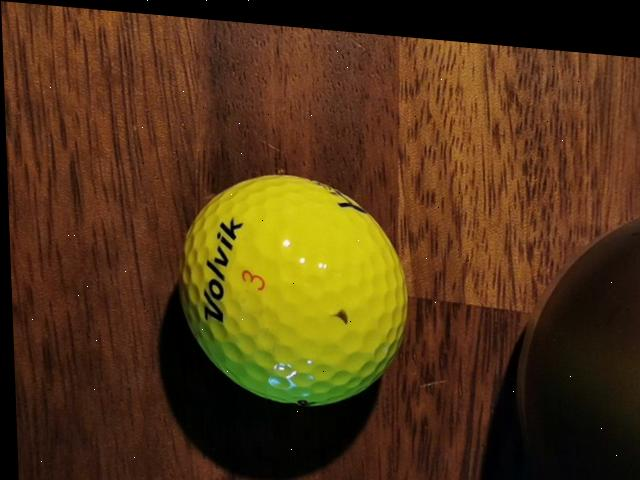Ball: (171, 161, 408, 408)
Volvik: (198, 209, 244, 319)
